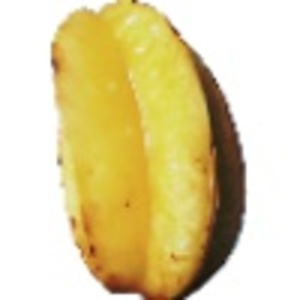carambola: (50, 1, 248, 300)
